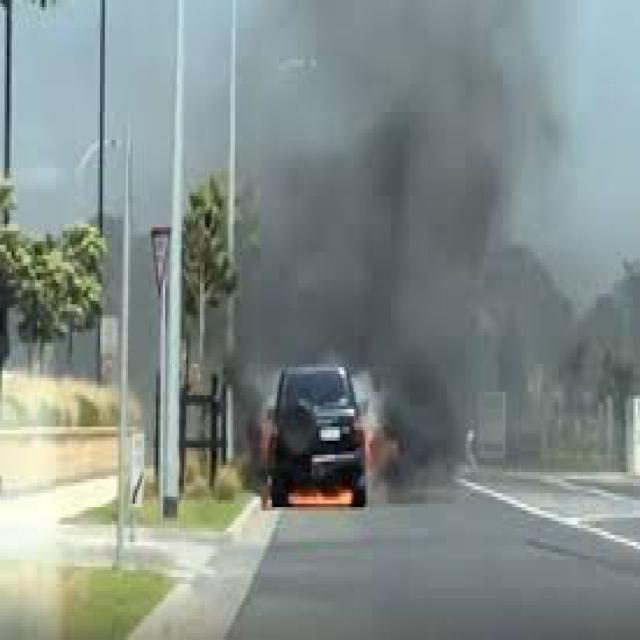fire: (284, 483, 358, 514)
smoke: (291, 165, 598, 472)
